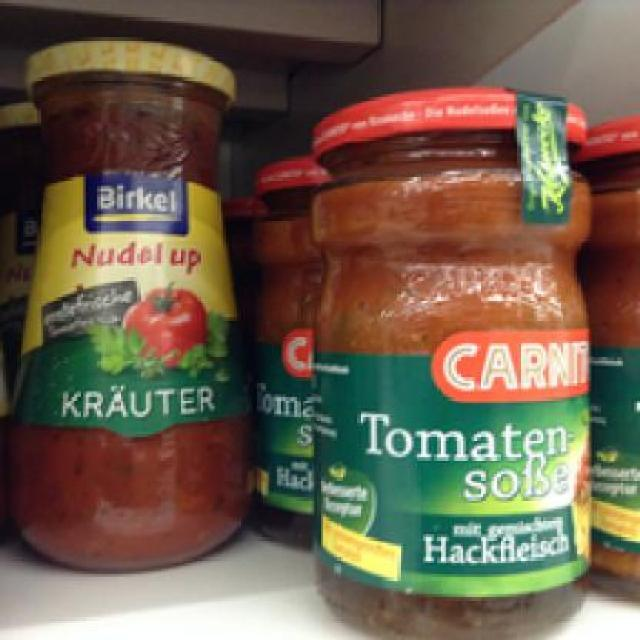Tomato Sauce: (300, 82, 594, 638), (5, 37, 252, 570)
